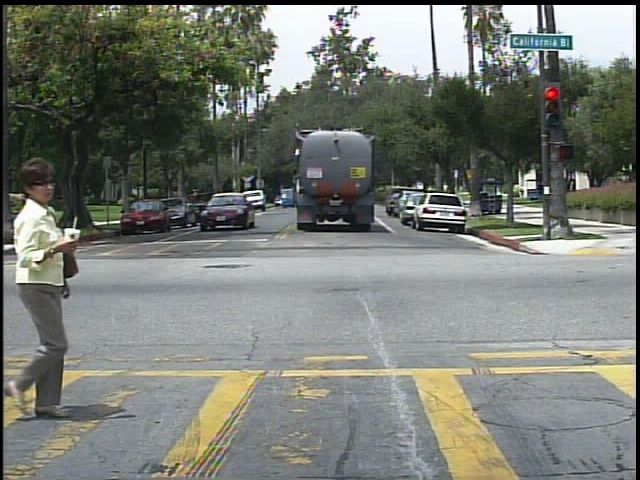person: (13, 151, 88, 423), (564, 172, 583, 204), (517, 180, 530, 200)
